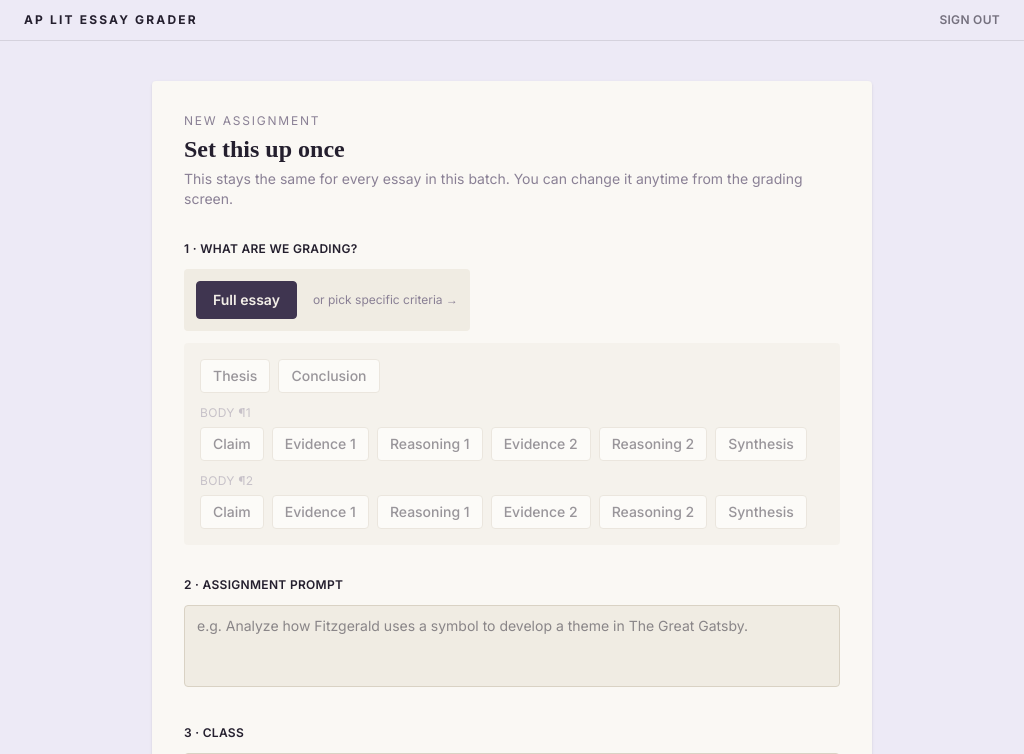
App auth gating › returns to the login screen and clears the token after clicking sign out
Click the button "Sign out" at (970, 20), box [939,12,1000,28]
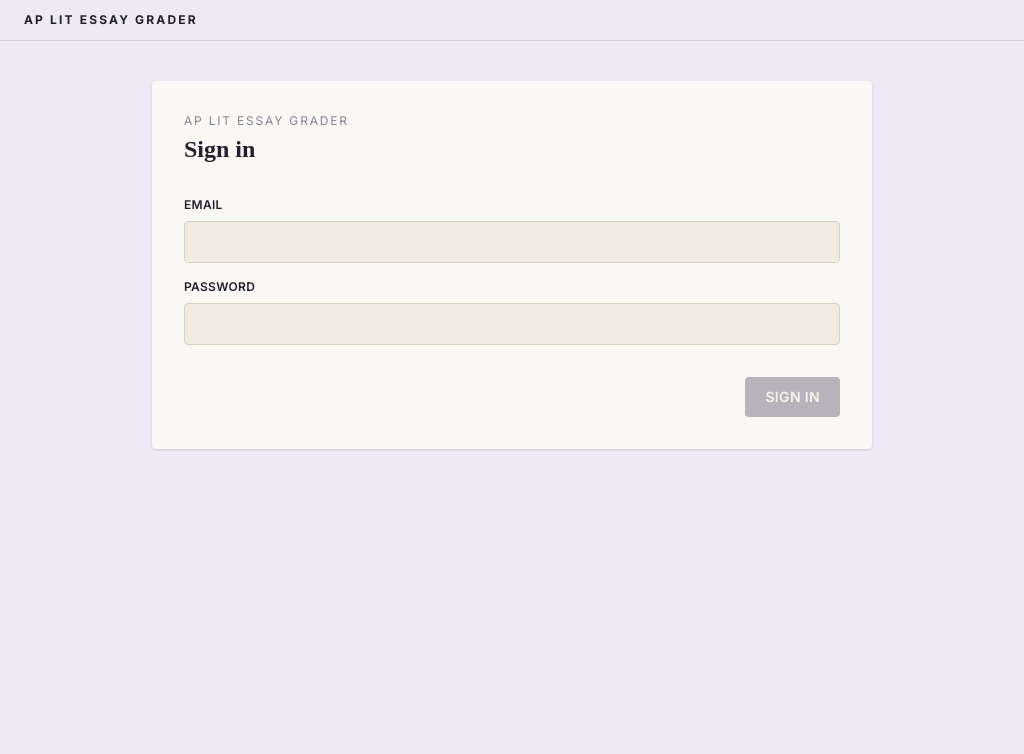
expect the heading "Sign in" is shown: met, box [184,136,255,162]
